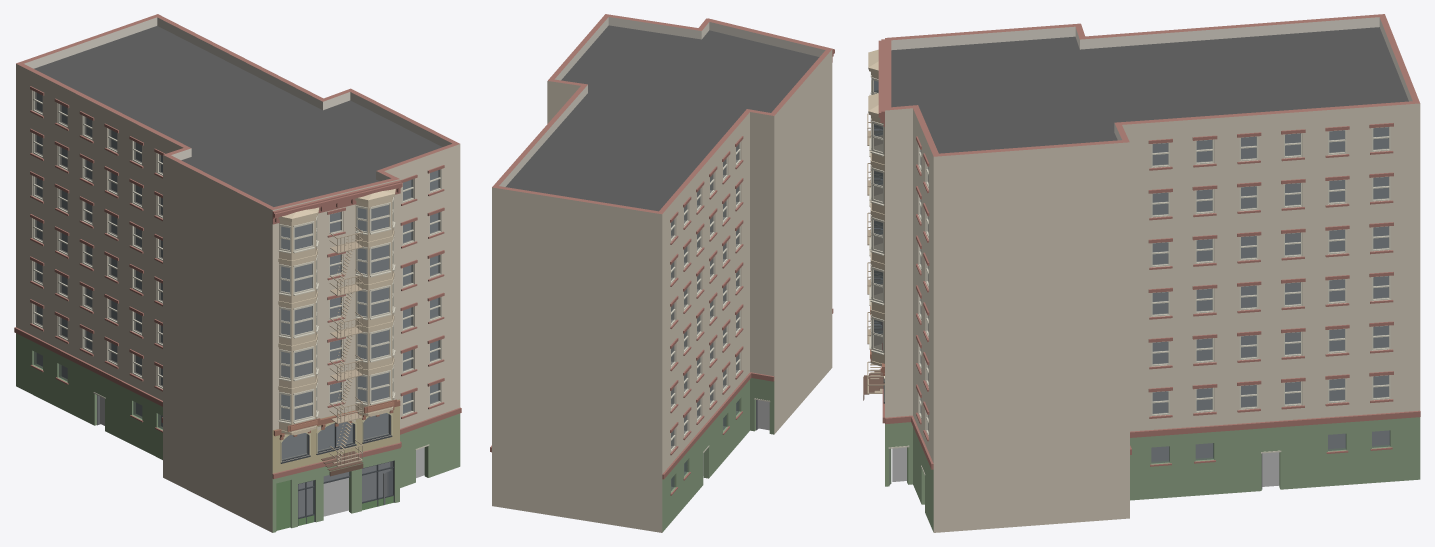
File: exterior.glb
3 renders of one model, left to right at view 1: azimuth 30°, elevation 25°; view 2: azimuth 150°, elevation 25°; view 3: azimuth 270°, elevation 25°, orthographic. The views are drawn at different scales.
Parts seen in each view (by area): view 1: shell, roof, shadow-proxy, glazing, bay-glazing-hyb, trim, bay-windows-hyb, frames, fire-escape, storefront, hand-ornament; view 2: shell, roof, trim, frames, glazing; view 3: shell, roof, glazing, shadow-proxy, trim, frames, bay-glazing-hyb, bay-windows-hyb, fire-escape.
Part boxes in pixels (x1=…): shell: x1=16, y1=14, x2=460, y2=532; roof: x1=34, y1=26, x2=442, y2=206; shadow-proxy: x1=37, y1=93, x2=437, y2=516; glazing: x1=34, y1=92, x2=439, y2=517; bay-glazing-hyb: x1=278, y1=197, x2=395, y2=423; trim: x1=14, y1=86, x2=461, y2=478; bay-windows-hyb: x1=278, y1=188, x2=395, y2=435; frames: x1=33, y1=91, x2=441, y2=461; fire-escape: x1=329, y1=226, x2=362, y2=466; storefront: x1=93, y1=392, x2=429, y2=530; hand-ornament: x1=273, y1=399, x2=400, y2=439; shell: x1=492, y1=14, x2=832, y2=532; roof: x1=506, y1=25, x2=819, y2=211; trim: x1=490, y1=18, x2=834, y2=495; frames: x1=671, y1=142, x2=740, y2=451; glazing: x1=671, y1=144, x2=739, y2=490; shell: x1=885, y1=14, x2=1420, y2=532; roof: x1=891, y1=27, x2=1408, y2=153; glazing: x1=920, y1=127, x2=1390, y2=463; shadow-proxy: x1=892, y1=127, x2=1389, y2=486; trim: x1=878, y1=39, x2=1420, y2=469; frames: x1=918, y1=126, x2=1390, y2=435; bay-glazing-hyb: x1=869, y1=72, x2=884, y2=354; bay-windows-hyb: x1=868, y1=49, x2=884, y2=366; fire-escape: x1=867, y1=113, x2=884, y2=393.
Bounding box in the file's own units: 18 × 21.94 × 29.46.
